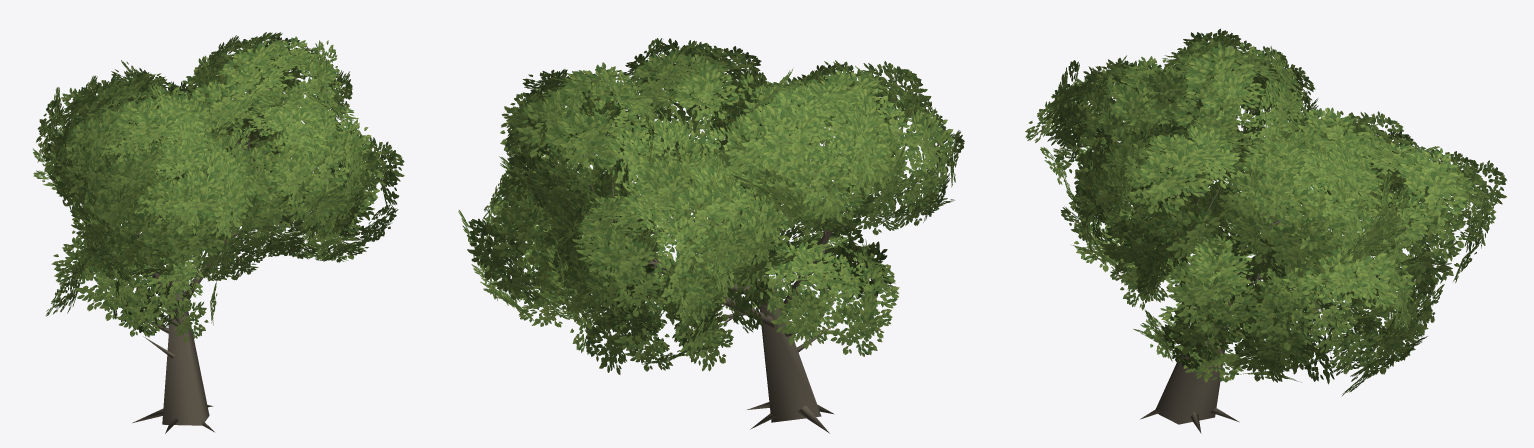
The model's file is tree.glb.
3 renders of one model, left to right at view 1: azimuth 30°, elevation 25°; view 2: azimuth 150°, elevation 25°; view 3: azimuth 270°, elevation 25°, orthographic. The views are drawn at different scales.
Parts seen in each view (by area): view 1: eco_tree_deciduous_a_LOD1; view 2: eco_tree_deciduous_a_LOD1; view 3: eco_tree_deciduous_a_LOD1.
Boxes of the visible parts, x1,y1,x2,y2 form: eco_tree_deciduous_a_LOD1: [33, 32, 404, 433]; eco_tree_deciduous_a_LOD1: [458, 38, 964, 433]; eco_tree_deciduous_a_LOD1: [1025, 28, 1506, 433].
Size of the model in its own units: 7.32 by 6.22 by 7.52.
2 materials, 2 textured.
